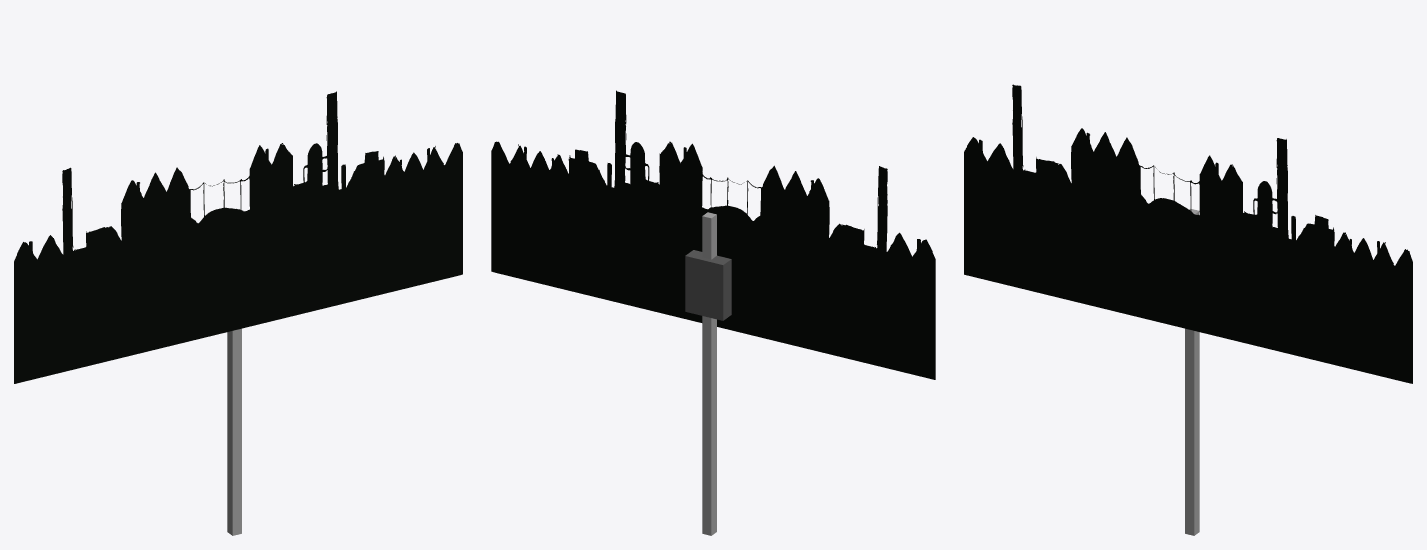
File: Depression_Silhouette2.fbx
3 views of the same model, side by side, from view 1: azimuth 30°, elevation 25°; view 2: azimuth 150°, elevation 25°; view 3: azimuth 330°, elevation 25° (orthographic).
Visible parts, largest first — view 1: pCube5; view 2: pCube5; view 3: pCube5.
Boxes of the visible parts, x1=… form: pCube5: x1=14, y1=91, x2=462, y2=535; pCube5: x1=491, y1=90, x2=935, y2=535; pCube5: x1=964, y1=84, x2=1412, y2=535.
Size of the model in its own units: 0.0459 by 0.0457 by 0.00166.
3 materials, 1 textured.
